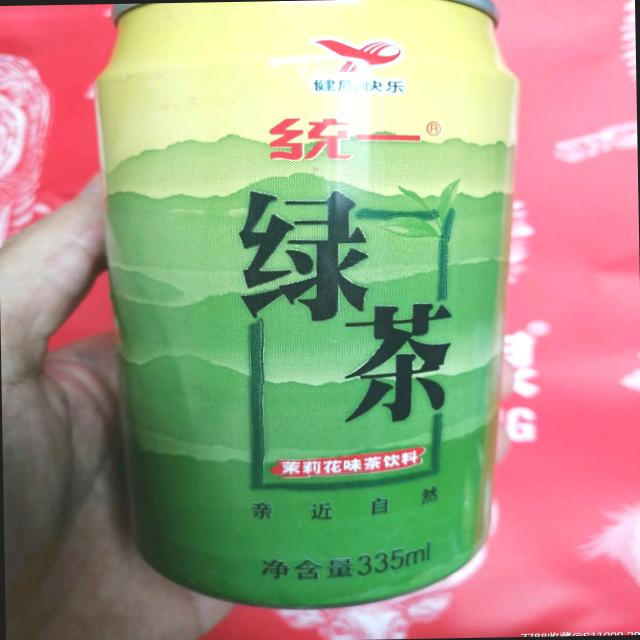can: (87, 0, 530, 614)
